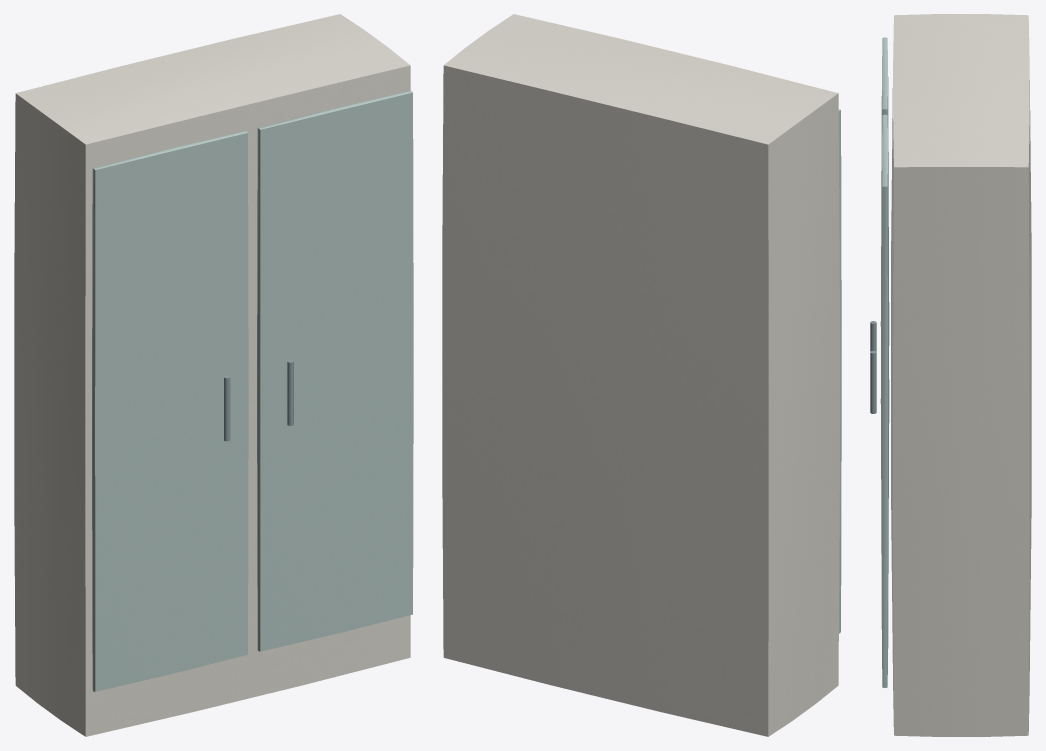
Rendered from cabinet.glb.
3 renders of one model, left to right at view 1: azimuth 30°, elevation 25°; view 2: azimuth 150°, elevation 25°; view 3: azimuth 270°, elevation 25°, orthographic. The views are drawn at different scales.
Visible parts, largest first — view 1: cabinet; view 2: cabinet; view 3: cabinet.
Part boxes in pixels (x1=…): cabinet: x1=14, y1=14, x2=413, y2=736; cabinet: x1=442, y1=14, x2=841, y2=736; cabinet: x1=870, y1=14, x2=1031, y2=736.
Size of the model in its own units: 1.04 by 1.8 by 0.459.
9 materials, 9 textured.
